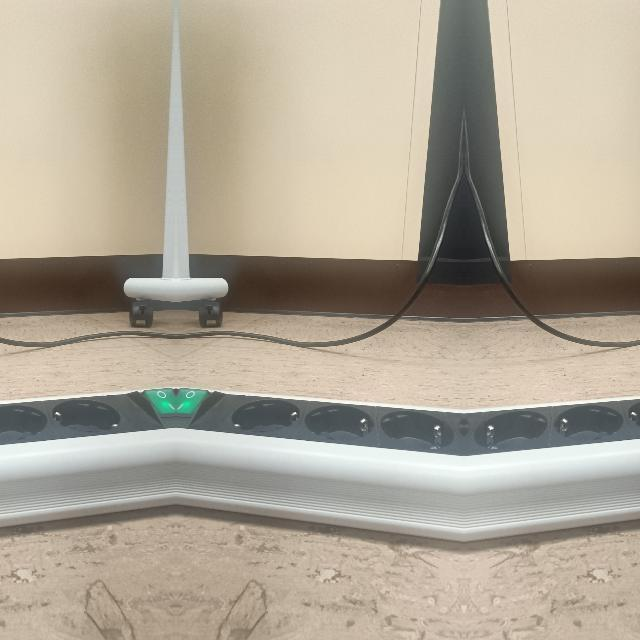obstacle: (178, 386, 464, 538), (463, 386, 640, 538), (0, 386, 172, 538), (286, 214, 459, 352), (467, 214, 640, 352), (0, 214, 63, 352), (176, 191, 227, 327), (124, 191, 174, 327)
